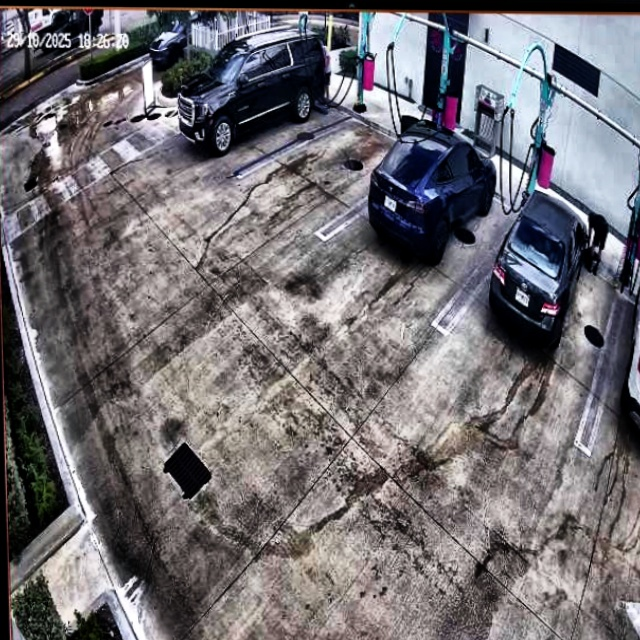Car: (366, 121, 497, 257)
